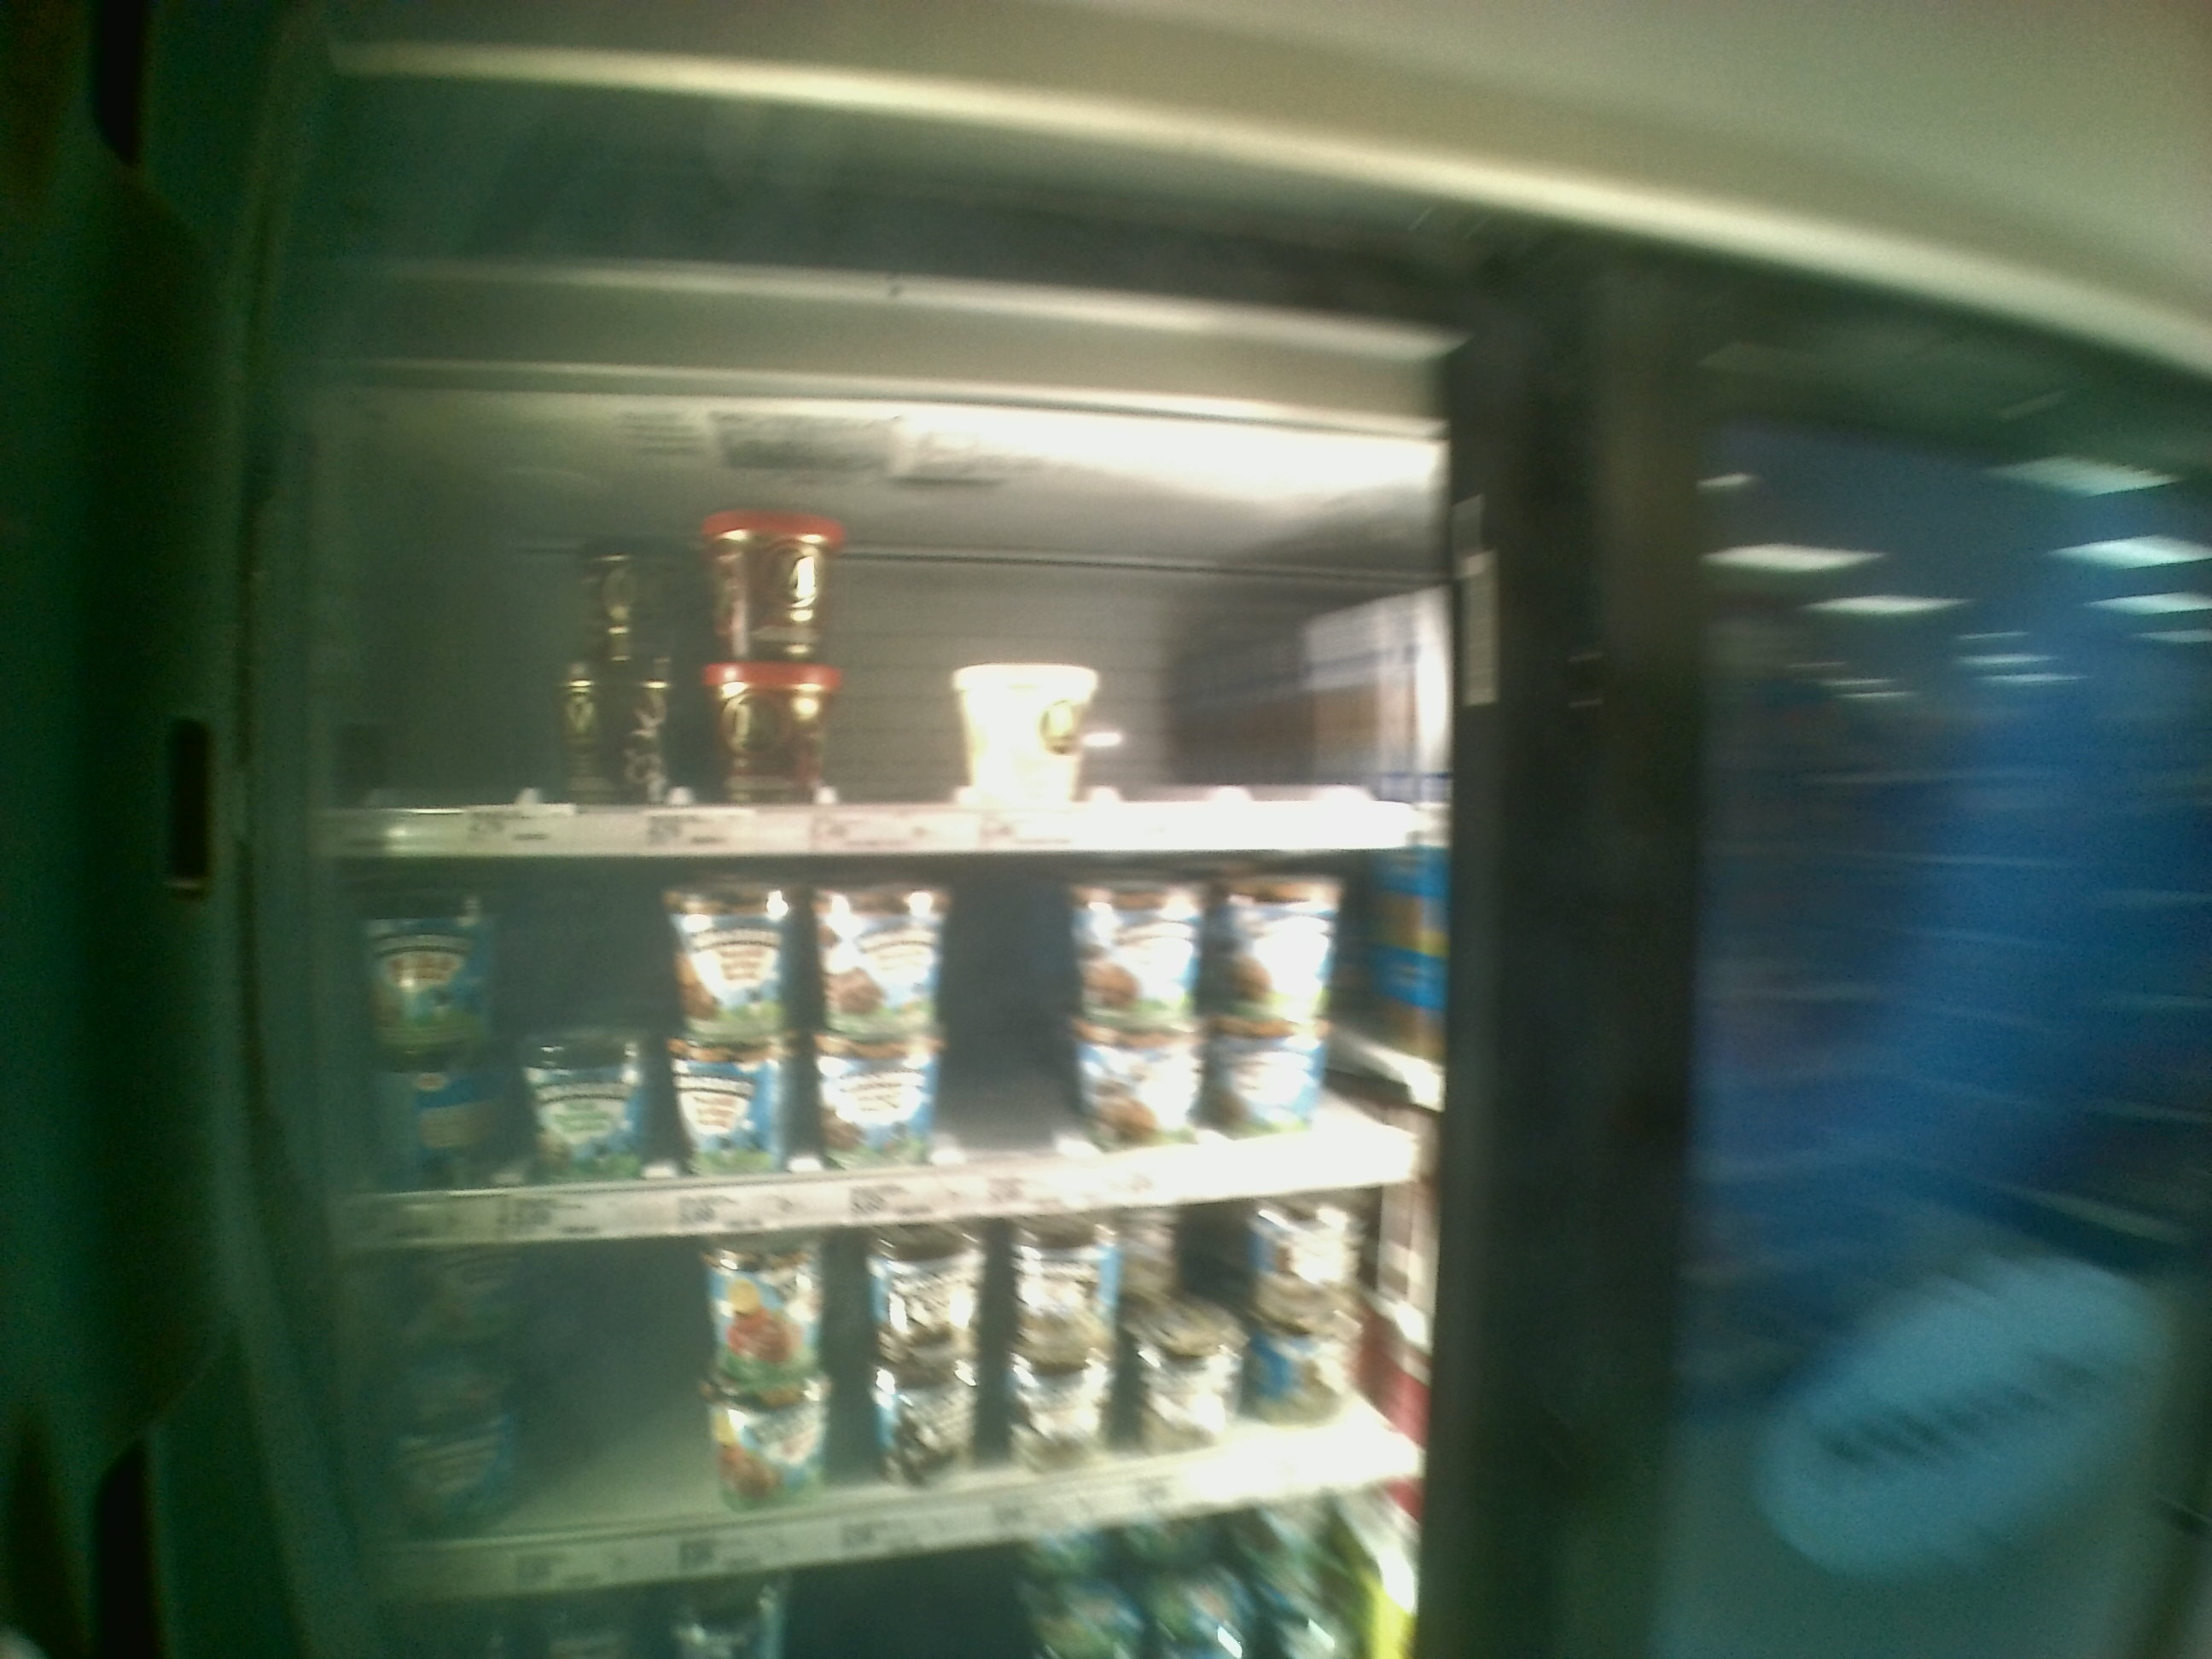shelf: (296, 416, 1460, 852), (296, 849, 1430, 1244)
